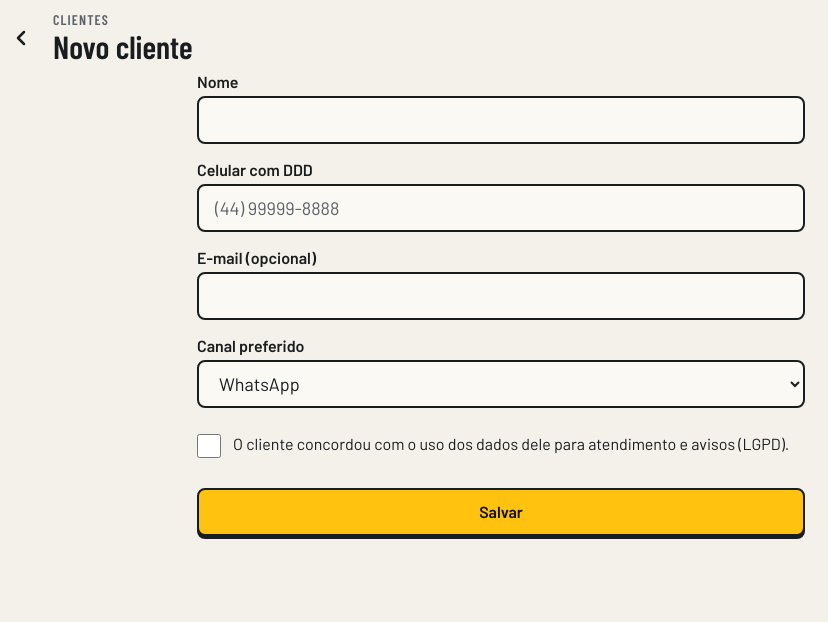
Test: Cliente (formulário) › valida antes de enviar
Click the button "Salvar".
click(501, 512)  # box [197,488,805,536]
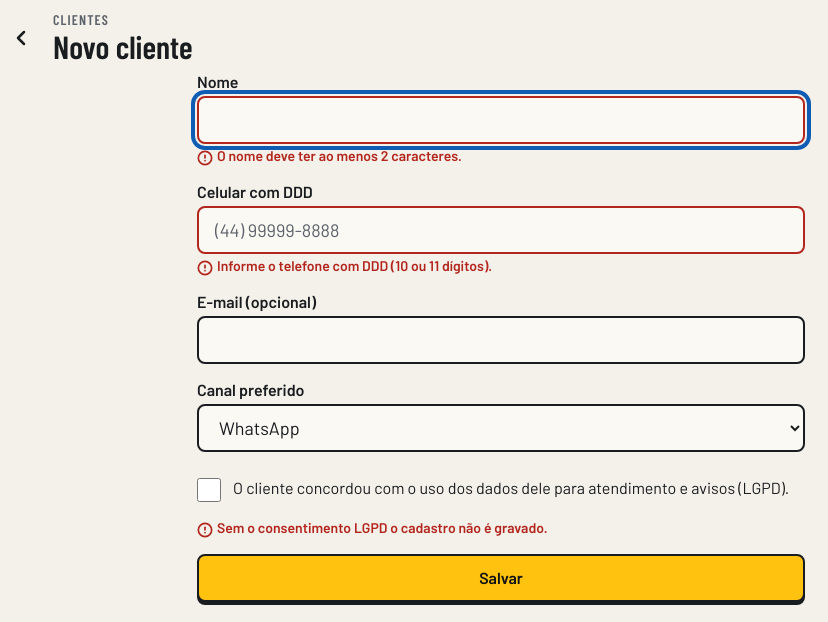
Check: the text "O nome deve ter ao menos 2 caracteres." is shown, box [197,147,462,166]
Check: the text "Informe o telefone com DDD (10 ou 11 dígitos)." is shown, box [197,257,492,276]
Check: the text "Sem o consentimento LGPD o cadastro não é gravado." is shown, box [197,519,548,538]
